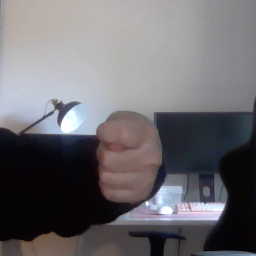T: (92, 108, 166, 205)
